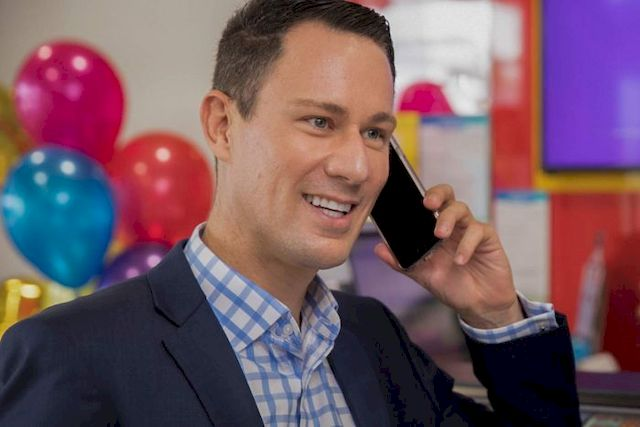phone: (367, 128, 453, 268)
talk: (274, 95, 510, 320)
